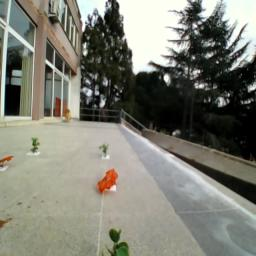herb: (106, 229, 133, 256), (31, 137, 42, 156), (101, 145, 111, 159)
wild: (99, 169, 120, 195), (1, 154, 15, 170)
